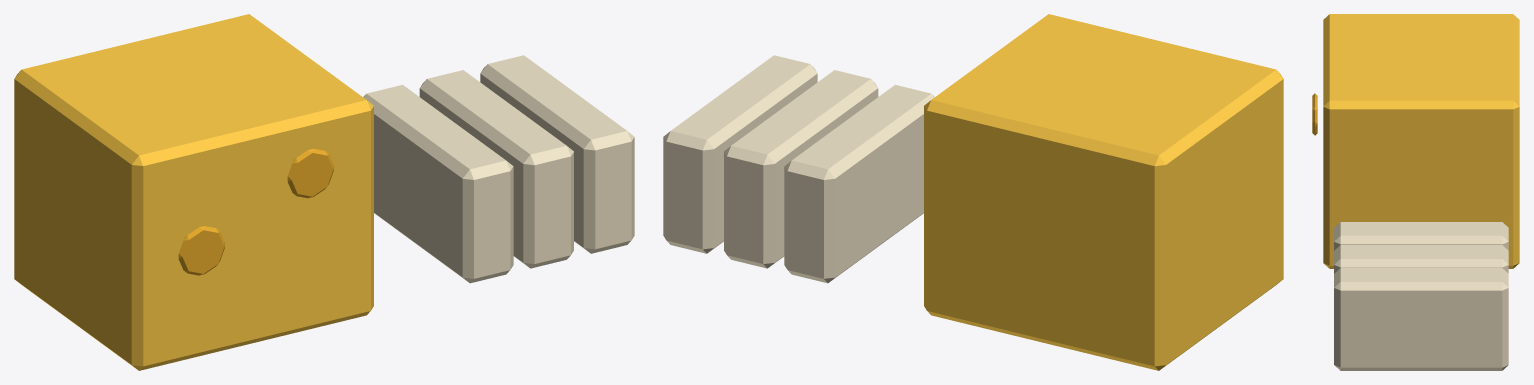
The model's file is cheese_bread.glb.
3 views of the same model, side by side, from view 1: azimuth 30°, elevation 25°; view 2: azimuth 150°, elevation 25°; view 3: azimuth 270°, elevation 25° (orthographic). The views are drawn at different scales.
Visible parts, largest first — view 1: cheese_bread__body__yellow2, cheese_bread__body__cream, cheese_bread__body__yellow; view 2: cheese_bread__body__yellow2, cheese_bread__body__cream; view 3: cheese_bread__body__yellow2, cheese_bread__body__cream, cheese_bread__body__yellow.
Boxes of the visible parts, box(x1,y1,x2,y2) form: cheese_bread__body__yellow2: box(14, 14, 373, 370); cheese_bread__body__cream: box(363, 55, 634, 283); cheese_bread__body__yellow: box(178, 148, 333, 275); cheese_bread__body__yellow2: box(924, 14, 1283, 370); cheese_bread__body__cream: box(663, 55, 934, 283); cheese_bread__body__yellow2: box(1323, 14, 1519, 268); cheese_bread__body__cream: box(1334, 222, 1508, 370); cheese_bread__body__yellow: box(1312, 93, 1317, 135).
Size of the model in its own units: 0.421 by 0.17 by 0.19.
